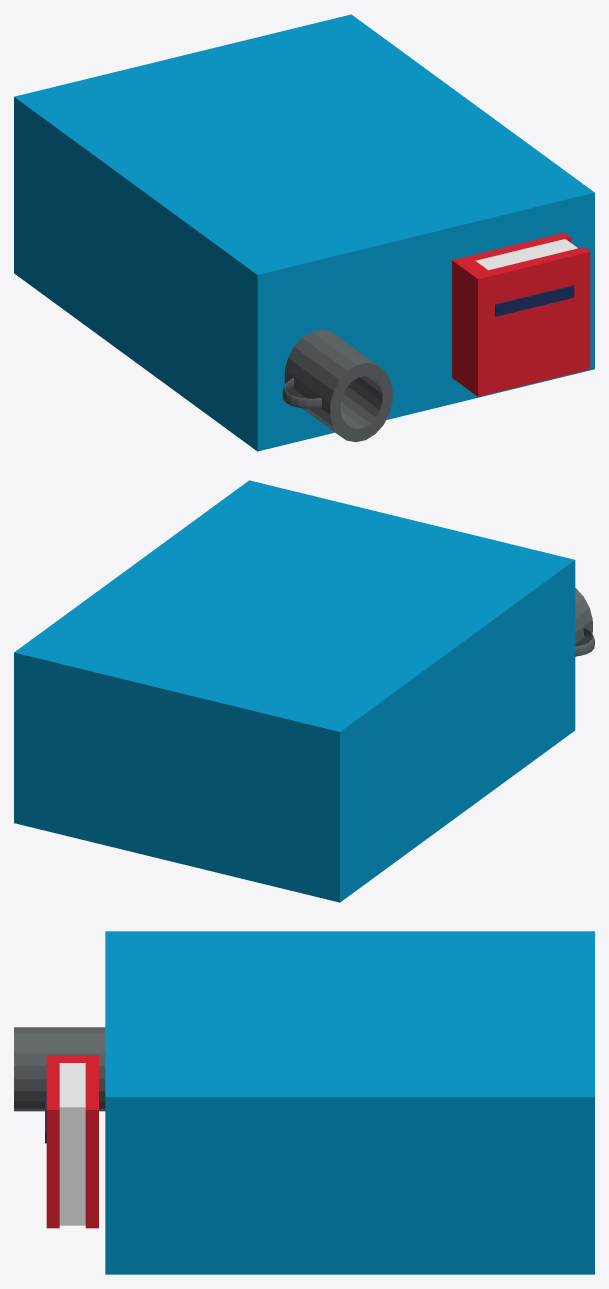
The model's file is tinker.obj.
3 views of the same model, one above another, from view 1: azimuth 30°, elevation 25°; view 2: azimuth 150°, elevation 25°; view 3: azimuth 270°, elevation 25° (orthographic). The views are drawn at different scales.
Parts seen in each view (by area): view 1: group_0_40919, group_0_15277357, group_0_6383466, group_0_16448250, group_0_1650274; view 2: group_0_40919, group_0_6383466; view 3: group_0_40919, group_0_15277357, group_0_6383466, group_0_16448250.
Part boxes in pixels (x1,y1,x2,y2): group_0_40919: (14, 14, 594, 451); group_0_15277357: (452, 232, 590, 396); group_0_6383466: (282, 329, 392, 442); group_0_16448250: (475, 239, 577, 270); group_0_1650274: (495, 285, 574, 316); group_0_40919: (14, 480, 575, 902); group_0_6383466: (575, 588, 594, 656); group_0_40919: (105, 931, 594, 1274); group_0_15277357: (46, 1055, 98, 1228); group_0_6383466: (14, 1027, 105, 1111); group_0_16448250: (59, 1063, 85, 1225).
Bounding box in the file's own units: 60 × 35 × 89.
